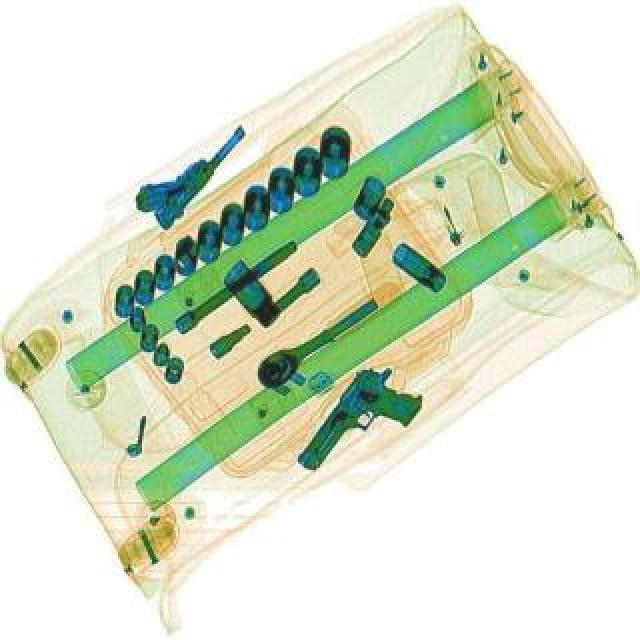gun: (294, 354, 430, 496), (124, 102, 250, 234)
